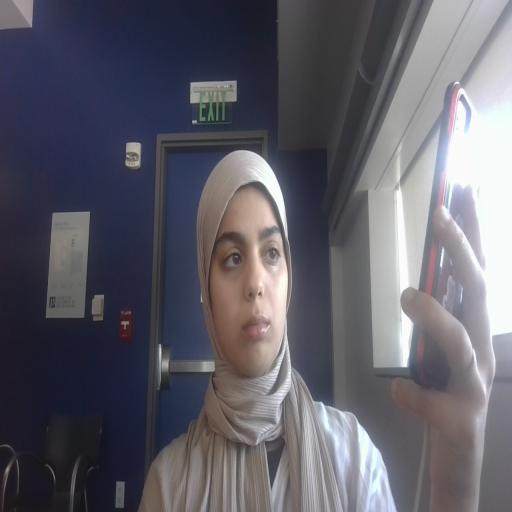phone: (399, 47, 490, 436)
